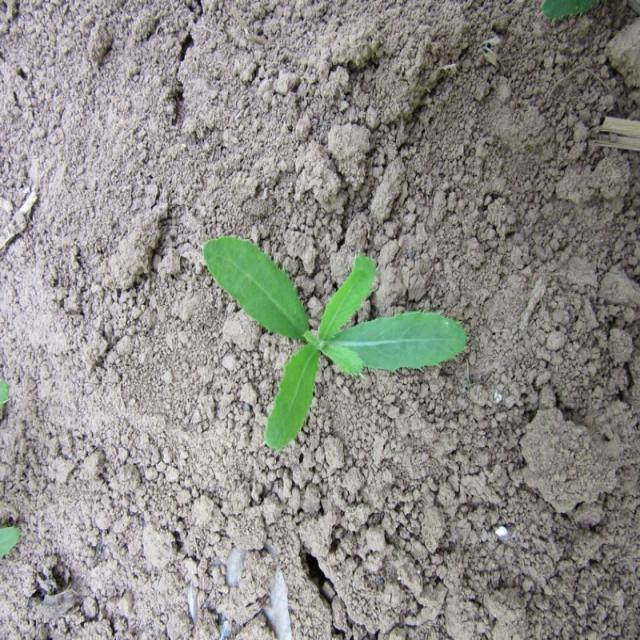field_thistle: (195, 229, 478, 447)
